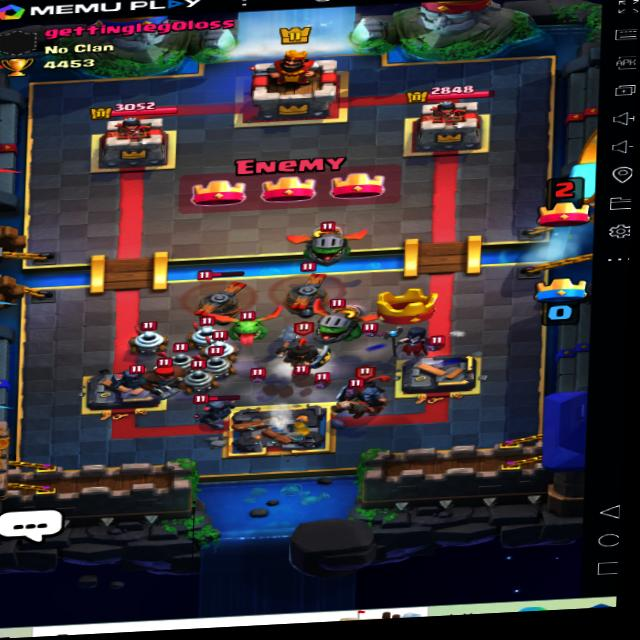Babydragon: (214, 305, 285, 343)
Bat: (313, 362, 347, 390), (425, 331, 456, 354), (281, 358, 314, 378), (237, 366, 271, 385), (358, 322, 383, 340)
Darkprince: (334, 366, 404, 425), (268, 331, 334, 379)
Flyingmachine: (168, 270, 261, 331), (273, 270, 339, 323)
Infernodragon: (289, 214, 364, 270), (315, 291, 371, 348)
Minipekka: (186, 393, 241, 426), (109, 362, 163, 387)
Nightwitch: (391, 319, 446, 366)
Zappies: (122, 319, 176, 355), (190, 343, 239, 375), (197, 329, 240, 361), (179, 358, 219, 391), (160, 344, 203, 372), (187, 316, 228, 345)
hunter: (140, 357, 194, 392)
